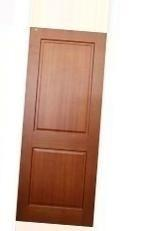door: (22, 28, 101, 226)
